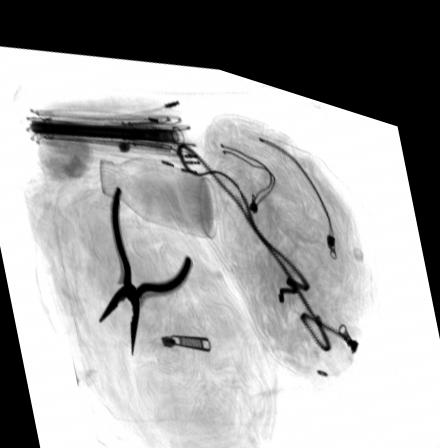Pliers: (95, 176, 193, 350)
